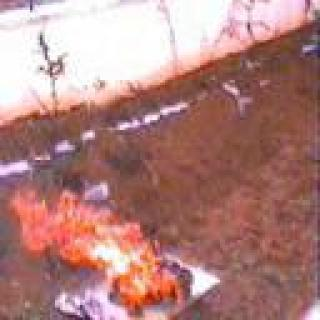fire: (3, 187, 194, 320)
